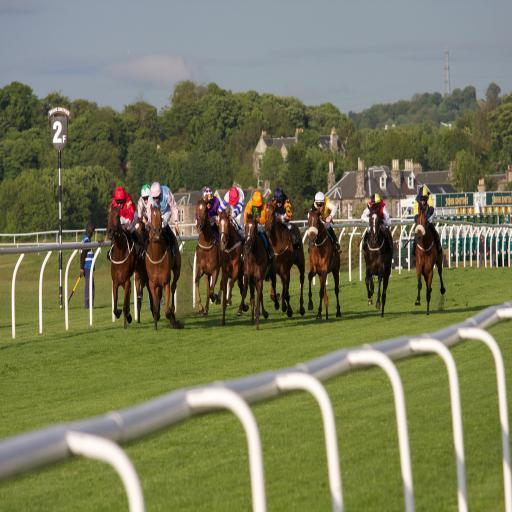horse: (104, 202, 148, 326), (142, 200, 182, 324), (264, 202, 304, 318), (242, 208, 280, 318), (306, 202, 340, 322), (216, 208, 250, 326), (362, 202, 394, 318), (194, 194, 223, 318), (412, 208, 444, 318)
